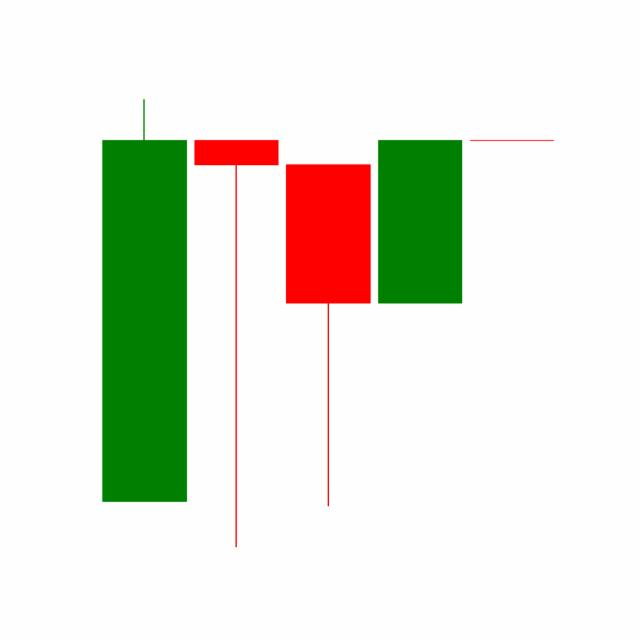Marubozu: (373, 138, 467, 305)
